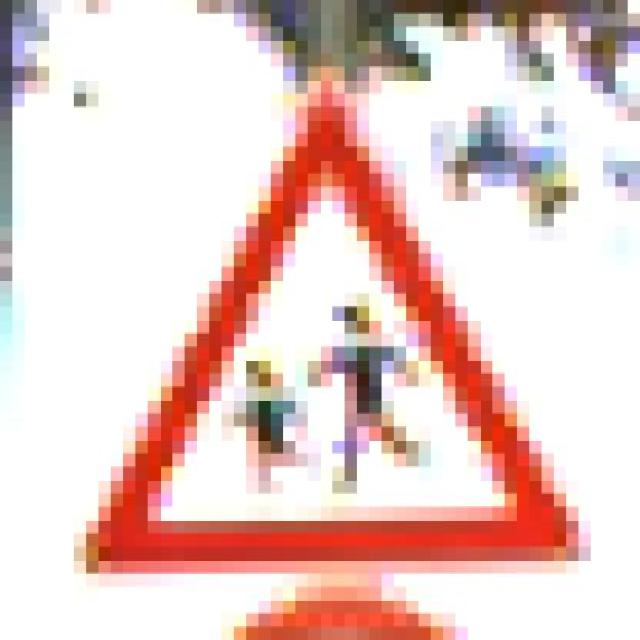Beware of children: (62, 67, 603, 587)
